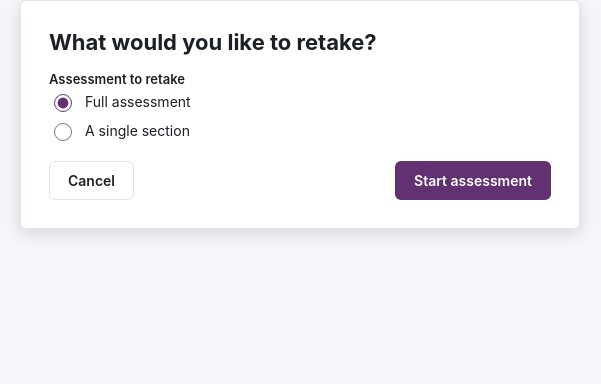
Test: ReassessPage › shows an error and stays when starting fails
Click the radio button labelled "A single section".
click(63, 132)  # box [54,123,72,141]
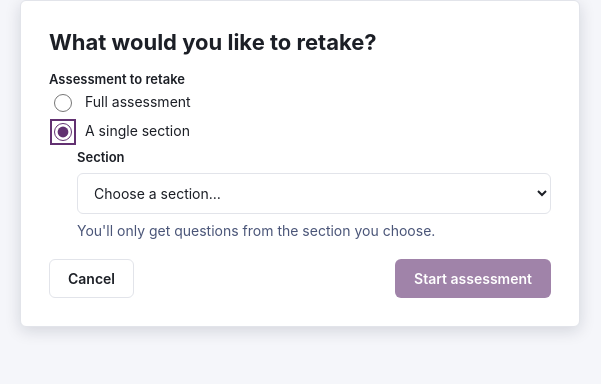
Select "Knife Skills" in the dropdown labelled "Section" at (314, 194), box [77,173,551,214]
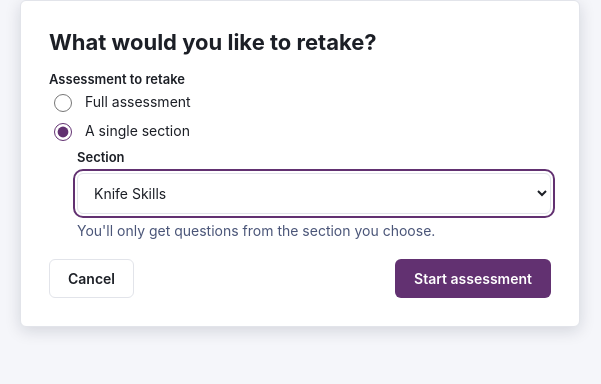
Click the button "Start assessment".
click(473, 278)  # box [395,259,551,298]
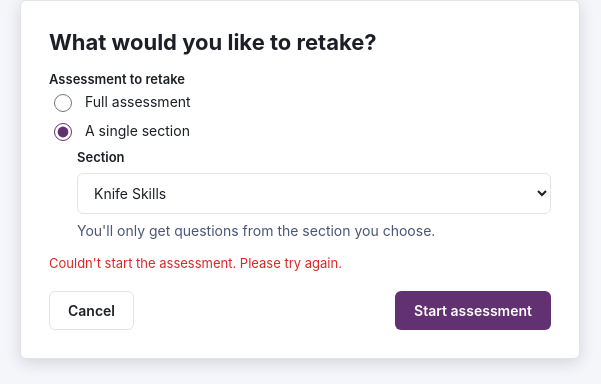
Check: the text "Couldn't start the assessment. Please try again." is shown, box [49,255,342,271]
